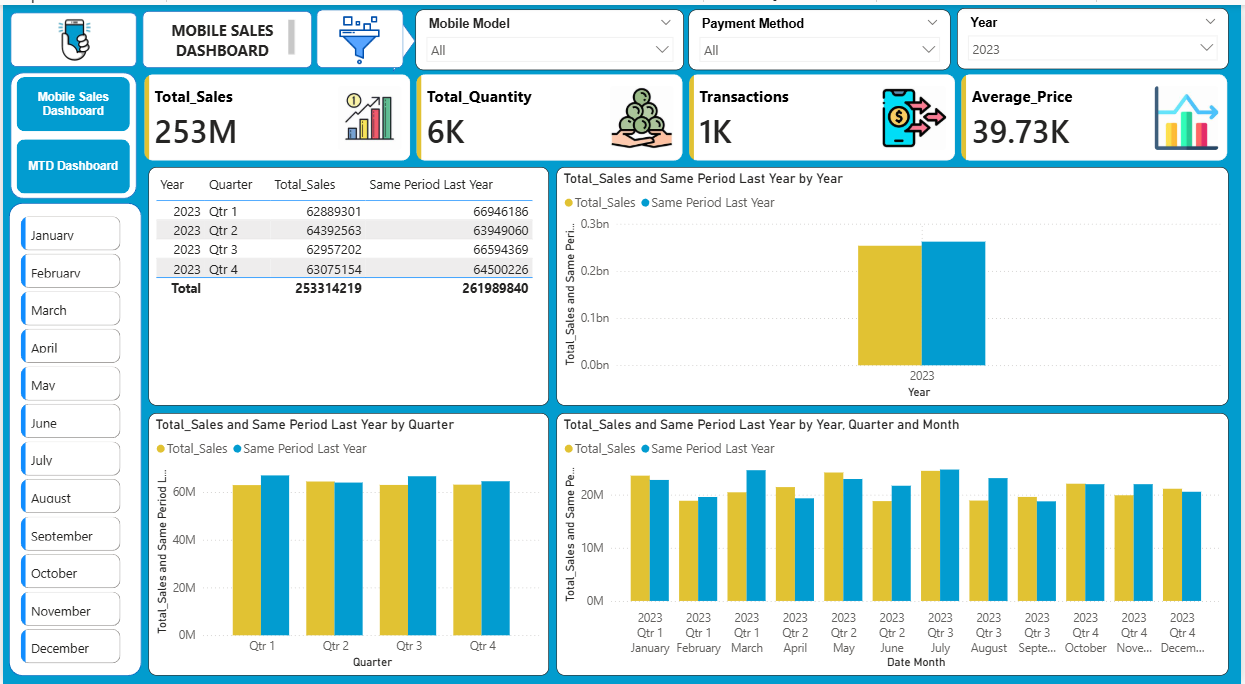

The page's visual inventory and layout, read from the dashboard file:
{"tool":"powerbi","page":{"name":"Same Period Last Year","canvas":[1550,850],"ordinal":2},"visuals":[{"type":"shape","box":[10,10,158,68],"z":0},{"type":"image","box":[38,10,104,68],"z":1000},{"type":"shape","box":[10,84,158,158],"z":2000},{"type":"cardVisual","fields":{"Data":["Mobile_sales_data.Total_Sales","Mobile_sales_data.Total_Quantity","Mobile_sales_data.Transactions","Mobile_sales_data.Average_Price"]},"box":[160,70,1390,142],"z":3000},{"type":"slicer","fields":{"Values":["Mobile_sales_data.Mobile Model"]},"box":[516,6,336,76],"z":4000},{"type":"slicer","fields":{"Values":["Mobile_sales_data.Payment Method"]},"box":[858,6,328,76],"z":5000},{"type":"shape","box":[460.1,5.6,56.3,78.9],"z":6000},{"type":"shape","box":[392.5,5.6,108.9,73.2],"z":7000},{"type":"slicer","fields":{"Values":["Custom_Calender.Date.Variation.Date Hierarchy.Year"]},"box":[1194.3,3.8,339.9,77],"z":8000},{"type":"image","box":[390.6,13.1,110.8,62],"z":9000},{"type":"shape","box":[174.6,7.5,212.2,71.4],"z":10000},{"type":"textbox","box":[187.8,13.1,182.1,56.3],"z":11000},{"type":"shape","box":[8,248,166,592],"z":12000},{"type":"advancedSlicerVisual","fields":{"Values":["Custom_Calender.Date.Variation.Date Hierarchy.Month"]},"box":[16.9,259.1,135.2,570.9],"z":13000},{"type":"tableEx","fields":{"Values":["Custom_Calender.Date.Variation.Date Hierarchy.Year","Custom_Calender.Date.Variation.Date Hierarchy.Quarter","Mobile_sales_data.Total_Sales","Mobile_sales_data.Same Period Last Year"]},"box":[182.1,202.8,501.4,298.6],"z":14000},{"type":"clusteredColumnChart","fields":{"Category":["Custom_Calender.Date.Variation.Date Hierarchy.Year","Custom_Calender.Date.Variation.Date Hierarchy.Quarter"],"Y":["Mobile_sales_data.Total_Sales","Mobile_sales_data.Same Period Last Year"]},"box":[692.9,202.8,841.3,298.6],"z":15000},{"type":"clusteredColumnChart","fields":{"Y":["Mobile_sales_data.Total_Sales","Mobile_sales_data.Same Period Last Year"],"Category":["Custom_Calender.Date.Variation.Date Hierarchy.Year","Custom_Calender.Date.Variation.Date Hierarchy.Quarter","Custom_Calender.Date.Variation.Date Hierarchy.Month","Custom_Calender.Date.Variation.Date Hierarchy.Day"]},"box":[692.9,510.8,841.3,328.6],"z":16000},{"type":"clusteredColumnChart","fields":{"Category":["Custom_Calender.Date.Variation.Date Hierarchy.Year","Custom_Calender.Date.Variation.Date Hierarchy.Quarter"],"Y":["Mobile_sales_data.Total_Sales","Mobile_sales_data.Same Period Last Year"]},"box":[182.1,510.8,501.4,328.6],"z":17000},{"type":"pageNavigator","box":[16.9,90.1,142.7,146.5],"z":18000}]}

Visuals, with their boxes in screenshot pixels (x1, y1, x2, y2), scaled from the page's 1550x850 canvas onto the 1245x684 screenshot:
shape: crop(8, 8, 135, 63)
image: crop(31, 8, 114, 63)
shape: crop(8, 68, 135, 195)
cardVisual - Mobile_sales_data.Total_Sales x Mobile_sales_data.Total_Quantity: crop(129, 56, 1244, 171)
slicer - Mobile_sales_data.Mobile Model: crop(414, 5, 684, 66)
slicer - Mobile_sales_data.Payment Method: crop(689, 5, 953, 66)
shape: crop(370, 5, 415, 68)
shape: crop(315, 5, 403, 63)
slicer - Custom_Calender.Date.Variation.Date Hierarchy.Year: crop(959, 3, 1232, 65)
image: crop(314, 11, 403, 60)
shape: crop(140, 6, 311, 63)
textbox: crop(151, 11, 297, 56)
shape: crop(6, 200, 140, 676)
advancedSlicerVisual - Custom_Calender.Date.Variation.Date Hierarchy.Month: crop(14, 208, 122, 668)
tableEx - Custom_Calender.Date.Variation.Date Hierarchy.Year x Custom_Calender.Date.Variation.Date Hierarchy.Quarter: crop(146, 163, 549, 403)
clusteredColumnChart - Custom_Calender.Date.Variation.Date Hierarchy.Year x Custom_Calender.Date.Variation.Date Hierarchy.Quarter: crop(557, 163, 1232, 403)
clusteredColumnChart - Mobile_sales_data.Total_Sales x Mobile_sales_data.Same Period Last Year: crop(557, 411, 1232, 675)
clusteredColumnChart - Custom_Calender.Date.Variation.Date Hierarchy.Year x Custom_Calender.Date.Variation.Date Hierarchy.Quarter: crop(146, 411, 549, 675)
pageNavigator: crop(14, 73, 128, 190)
